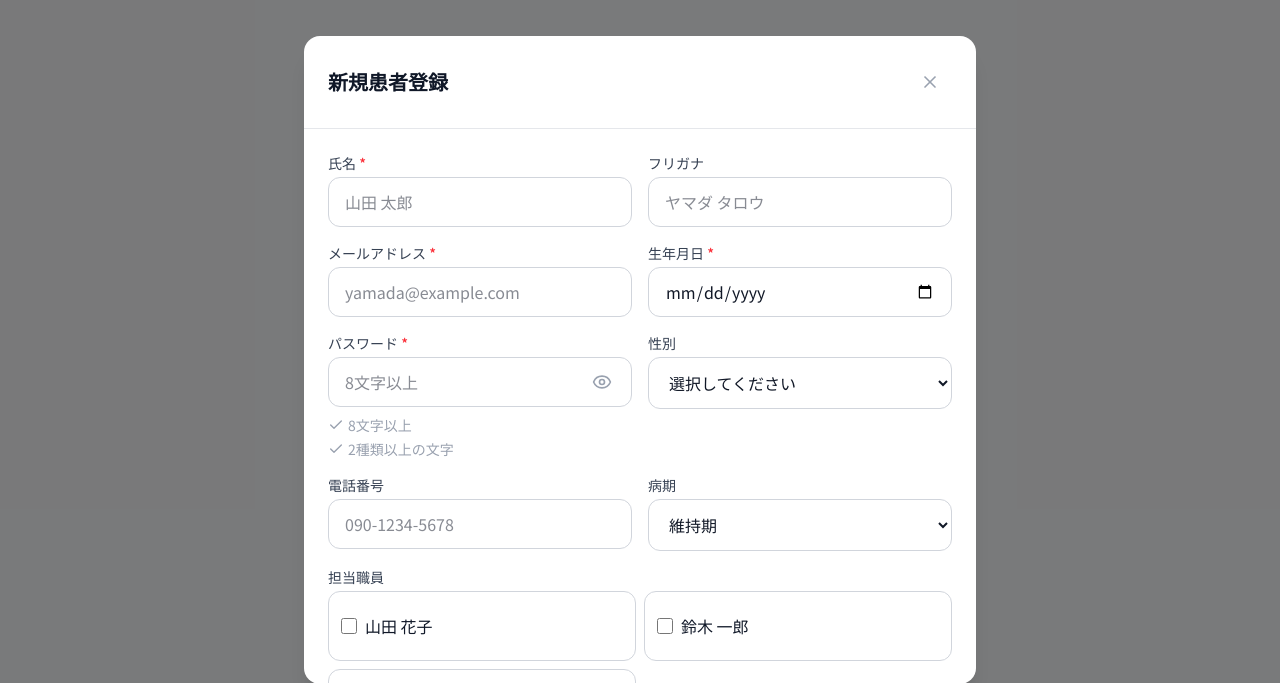
PatientCreateDialog › form validation › should show error for empty birth date
The image size is (1280, 683).
Type "テスト太郎" into the field labelled "氏名 *". click: (480, 202)
box: [328,177,632,227]
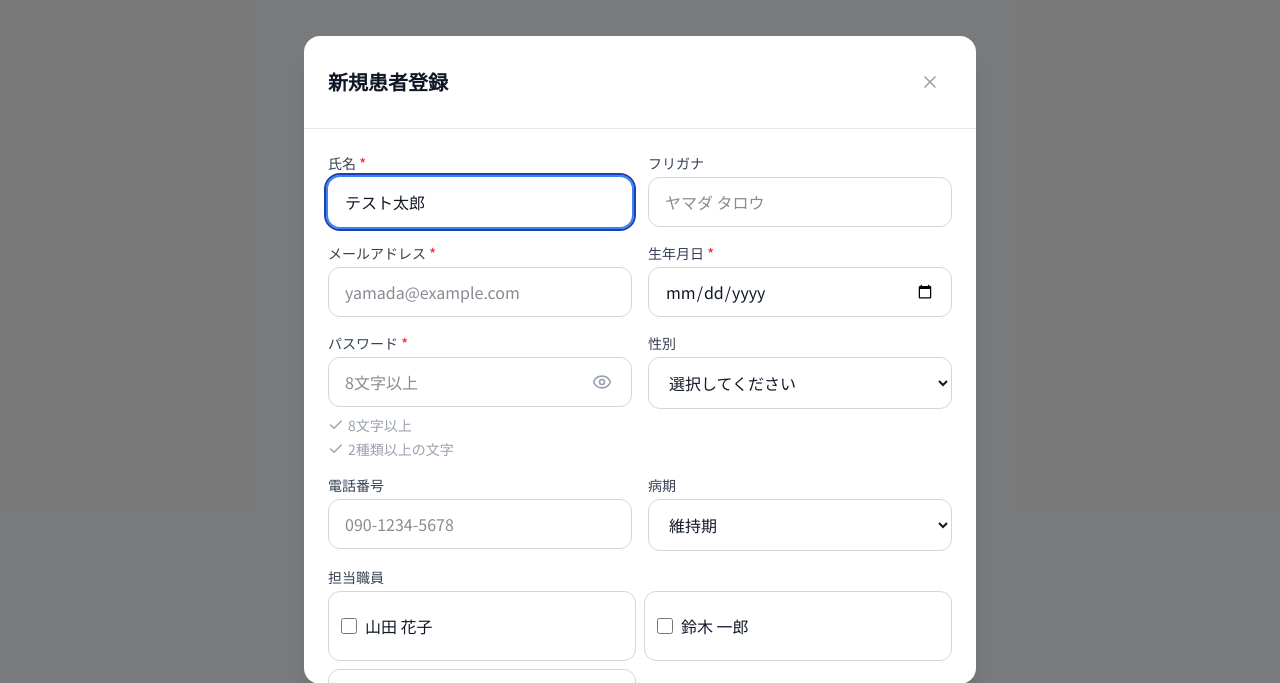
Type "test@example.com" into the field labelled "メールアドレス *". click: (480, 292)
box: [328,267,632,317]
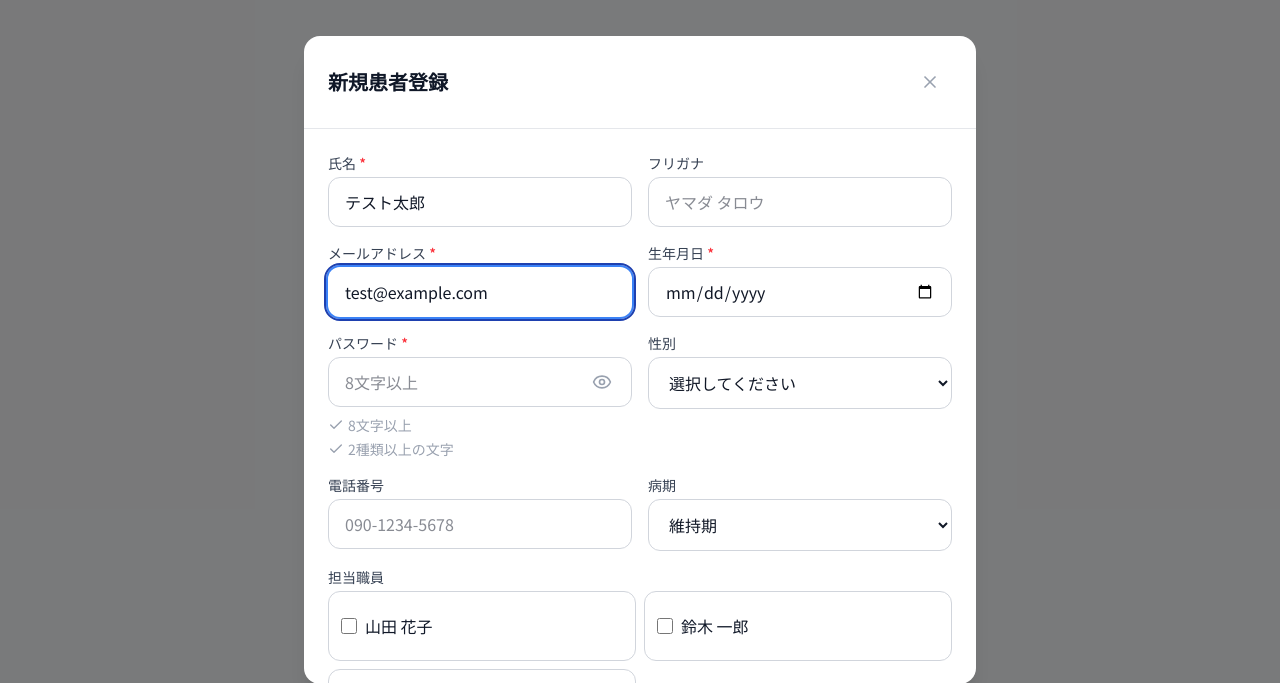
Type "Password1!" into the password field labelled "パスワード *". click: (480, 382)
box: [328,357,632,407]
(page scrolled)
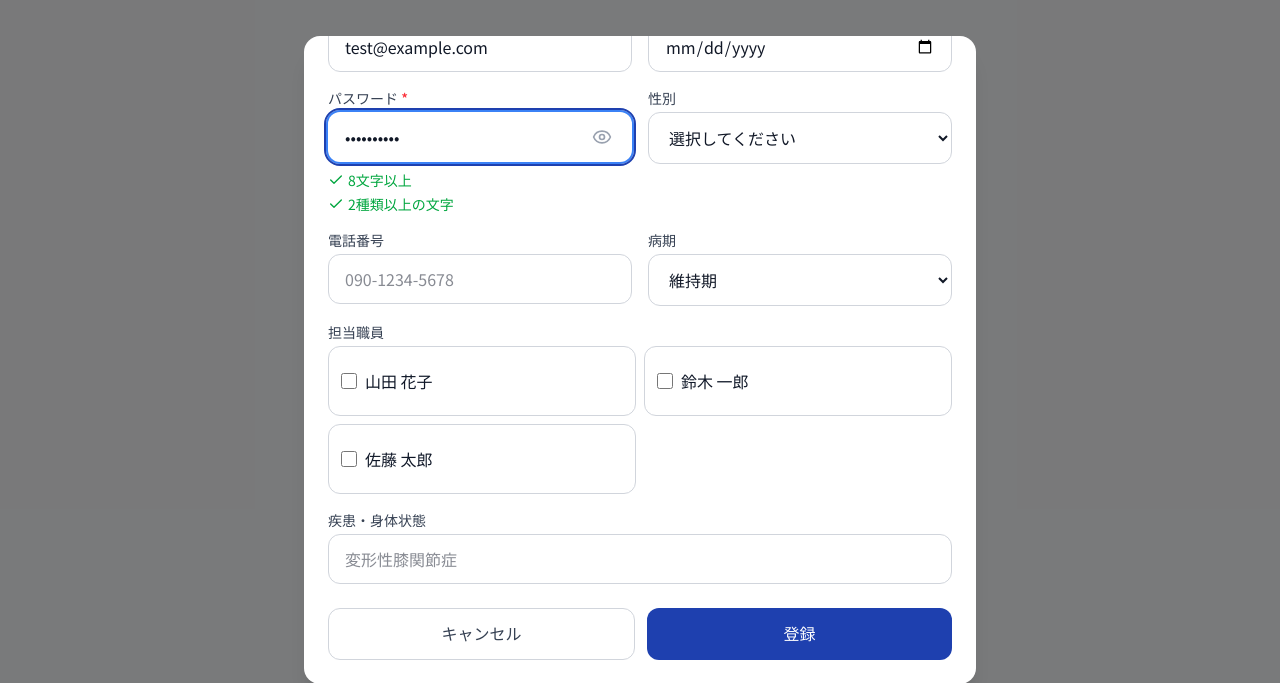
Click the button "登録". click: (800, 634)
box: [647,608,952,660]
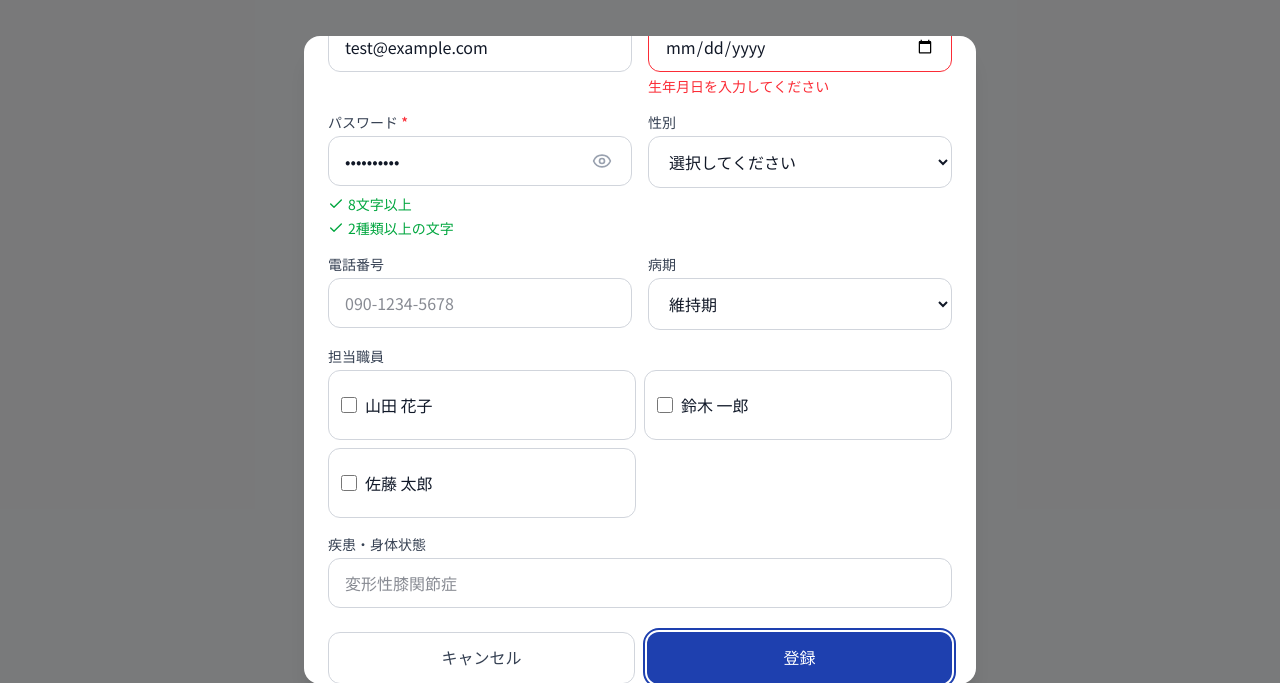
Result: the text "生年月日を入力してください" is shown at [648,76,829,96]
